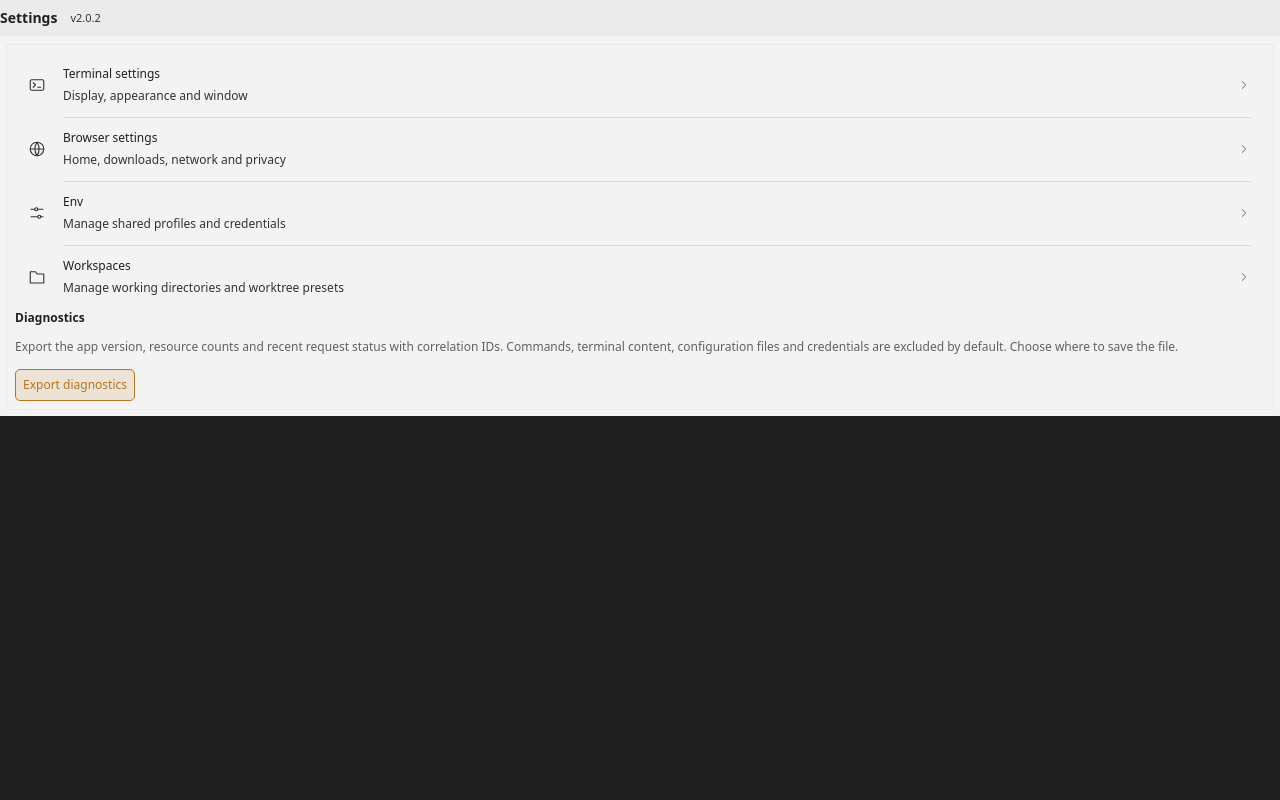
Scenario: 终端设置里的任务保存区快捷键 › 恢复默认立即保存新的展开快捷键和收纳默认值
Click the button "Terminal settings" at (112, 74), box [15,53,1259,117]
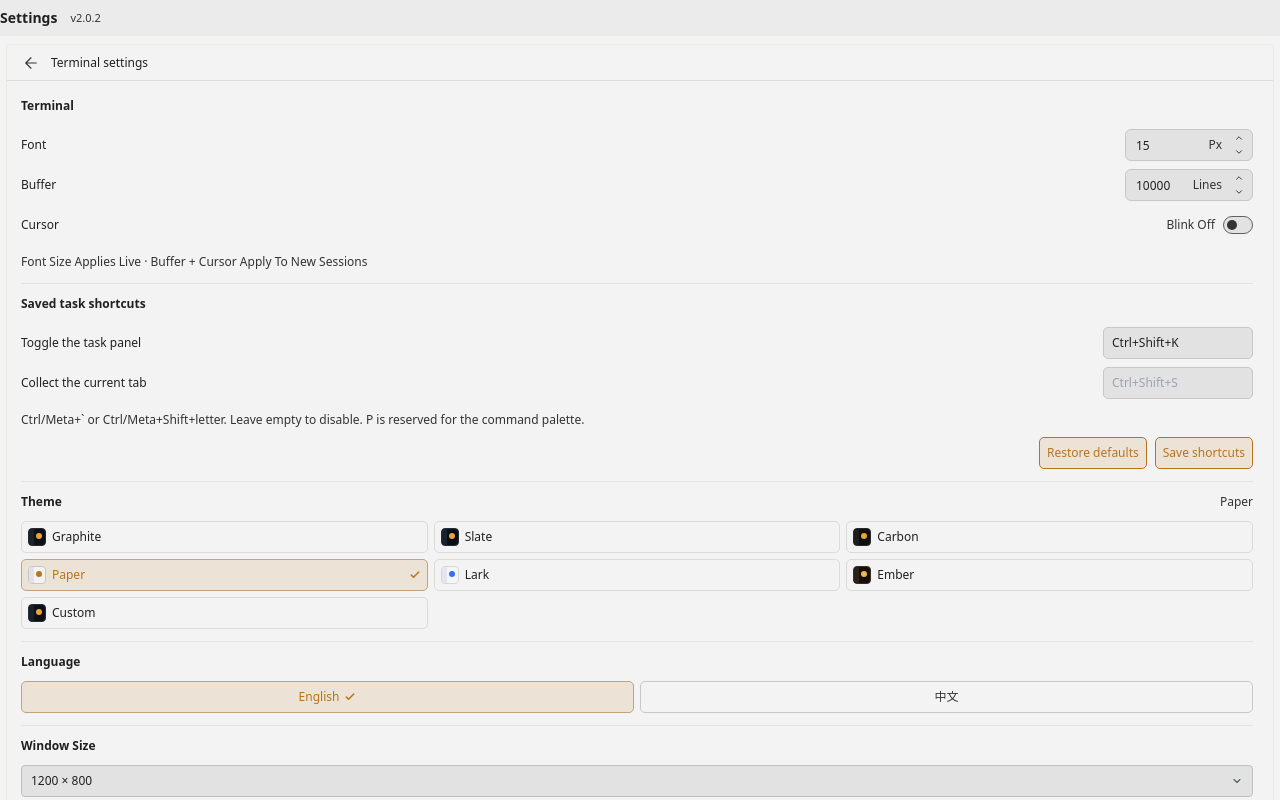
Click the button "Restore defaults" at (1093, 453), box [1039,437,1147,469]
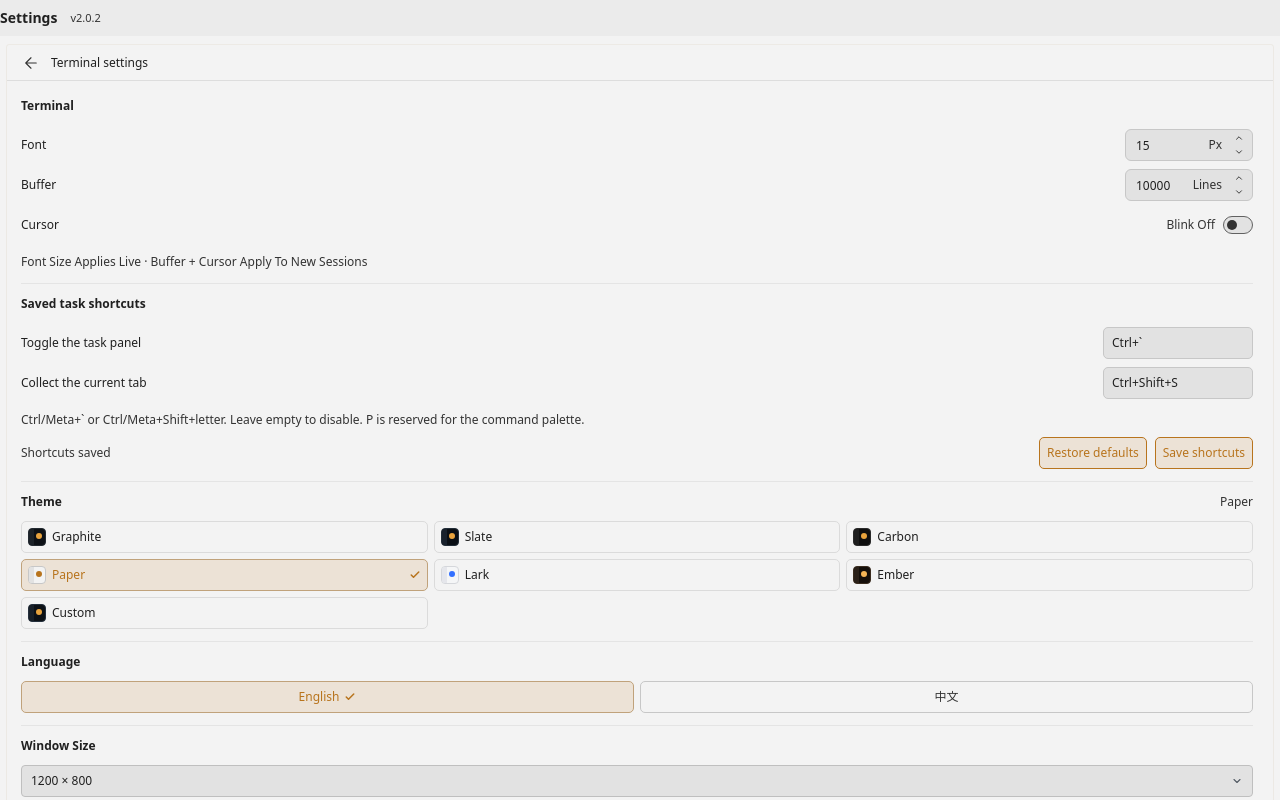
Expected: the field labelled "Toggle the task panel" holds "Ctrl+`", [1103,327,1253,359]
